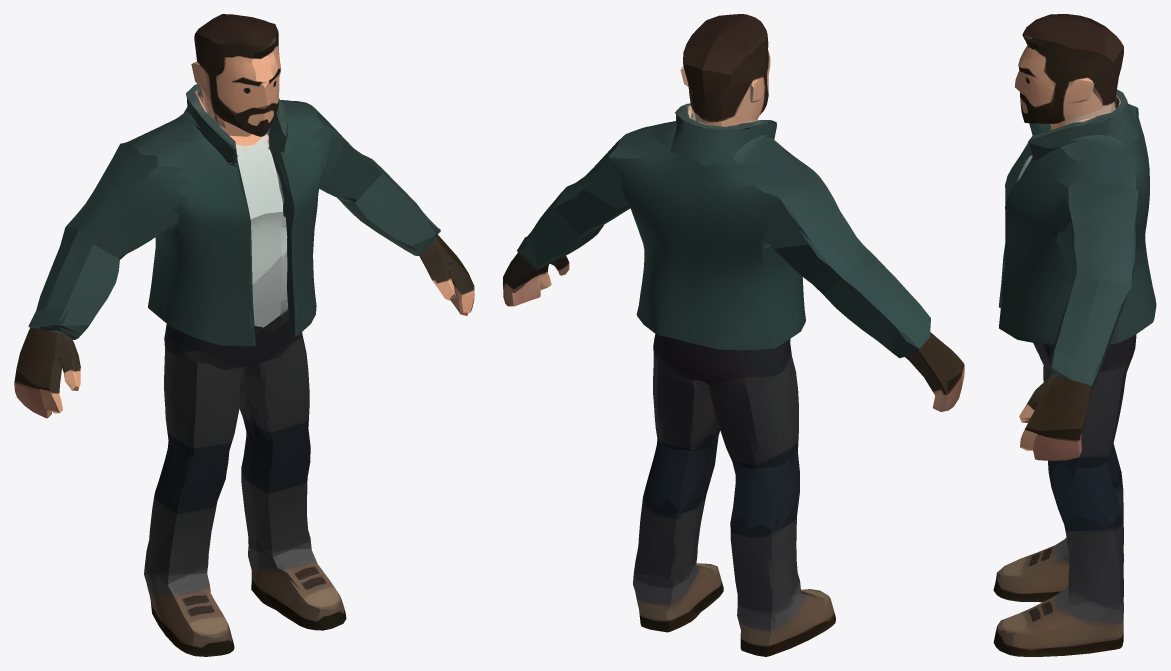
The model's file is Meshy_AI_survival_protagonist_1017123545_image-to-3d-texture.fbx.
3 views of the same model, side by side, from view 1: azimuth 30°, elevation 25°; view 2: azimuth 150°, elevation 25°; view 3: azimuth 270°, elevation 25° (orthographic).
Visible parts, largest first — view 1: Mesh_0; view 2: Mesh_0; view 3: Mesh_0.
Boxes of the visible parts, x1,y1,x2,y2 form: Mesh_0: [14, 14, 474, 656]; Mesh_0: [503, 14, 964, 656]; Mesh_0: [993, 14, 1156, 656].
Size of the model in its own units: 148 by 191 by 47.02.
1 material, 1 textured.
